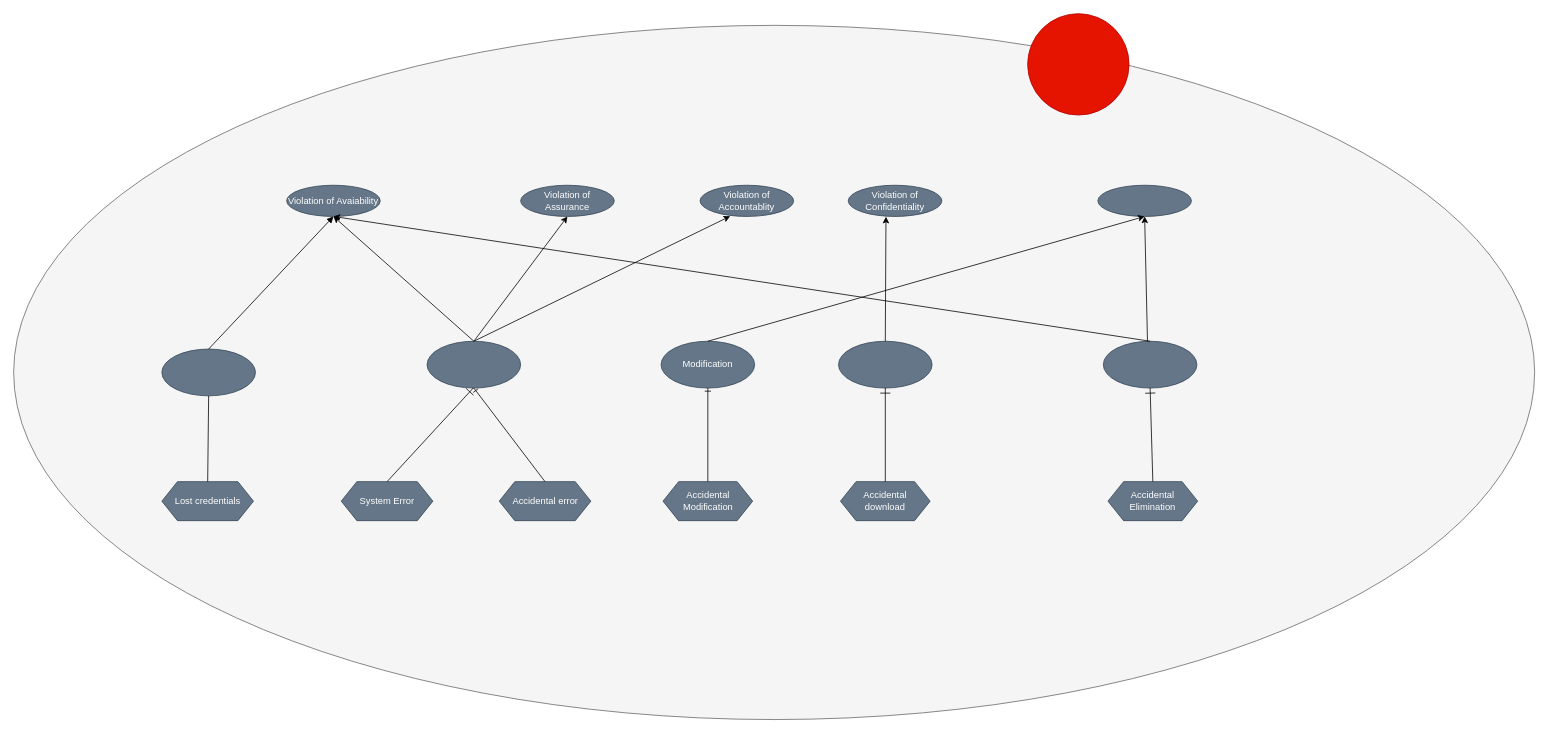
The diagram is 1548 pixels wide and 733 high, and some of its shapes have lost their labels. The shapes that lost their labels are listed below. From the top down, each one's centre as x and y in pixels, then its label:
At point (1078, 64): "Clumsy Ticket Validator".
At point (1144, 200): "Violation of Integrity".
At point (208, 372): "Lost Data".
At point (473, 364): "Error on ticket validation".
At point (885, 364): "Copy on local device".
At point (1150, 364): "Delention".
